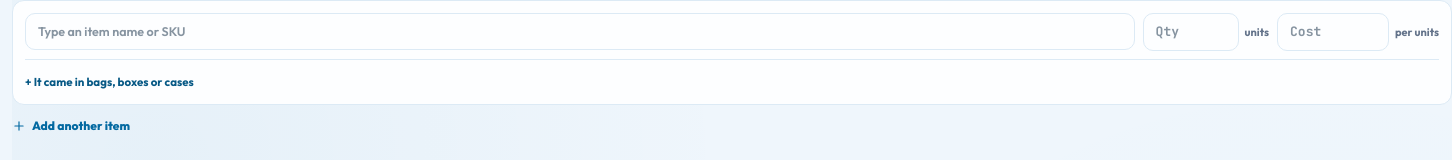
Test: choosing an item › narrows the list as a name is typed
Type "dal" into the field with placeholder "Type an item name or SKU" at (580, 32), box [25,13,1135,50]
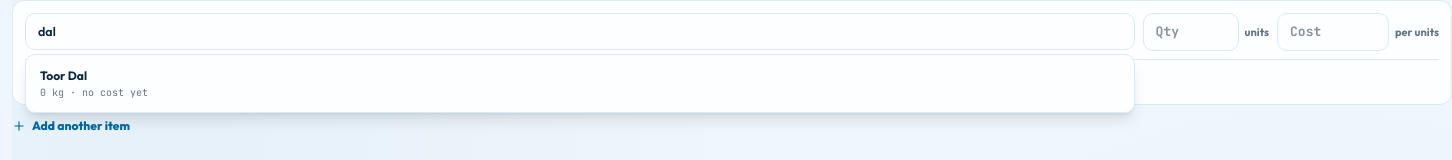
expect the text "Toor Dal" is shown: met, box [40,68,87,83]
expect the button "Basmati Rice (5kg)" is gone: met
